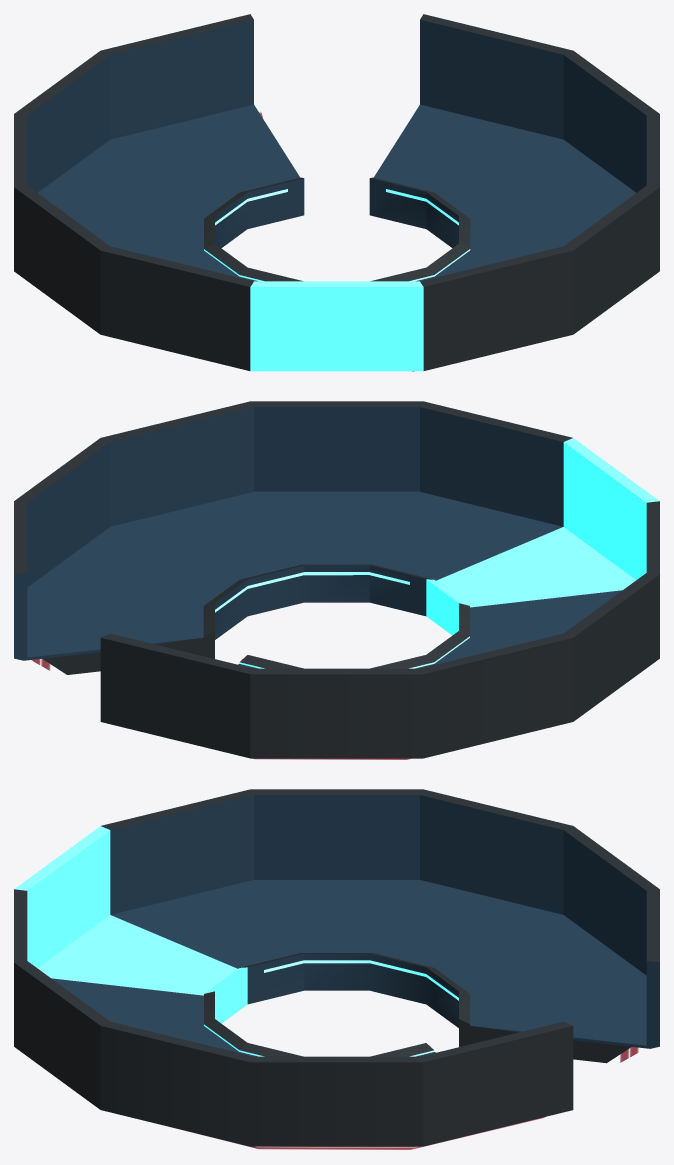
The model's file is Aero_Station_PinkRing_Art.glb.
3 views of the same model, one above another, from view 1: azimuth 30°, elevation 25°; view 2: azimuth 150°, elevation 25°; view 3: azimuth 270°, elevation 25° (orthographic).
Parts seen in each view (by area): view 1: Aero_Station_PinkRing_Art; view 2: Aero_Station_PinkRing_Art; view 3: Aero_Station_PinkRing_Art.
Part boxes in pixels (bbox=[...]): Aero_Station_PinkRing_Art: bbox=[14, 14, 659, 371]; Aero_Station_PinkRing_Art: bbox=[14, 401, 659, 759]; Aero_Station_PinkRing_Art: bbox=[14, 789, 659, 1149].
Bounding box in the file's own units: 15.27 × 3.09 × 15.27.
Materials: 6 (3 with a texture image).
